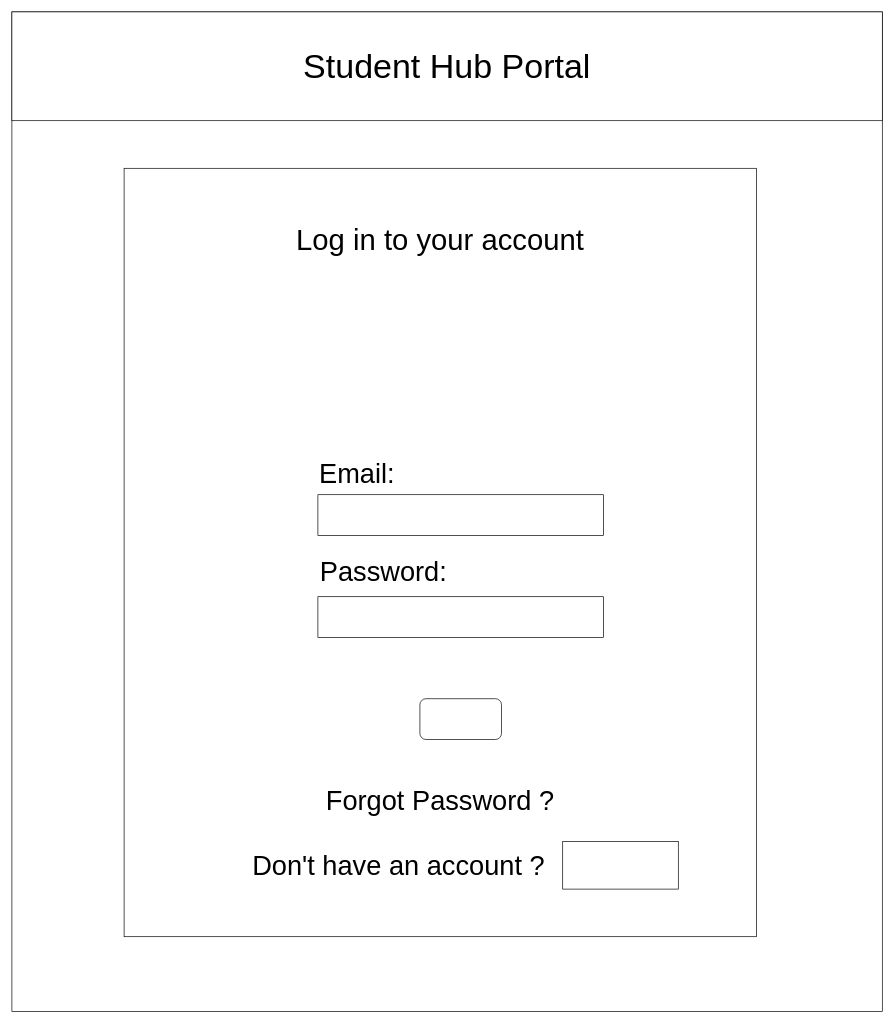
Image size: 894x1023. Some labels were removed from this diagram. Here are the shapes that lost their labels. From the top down, the centre of each, then its label:
At point (460, 719): "Login".
At point (620, 865): "Sign Up".
